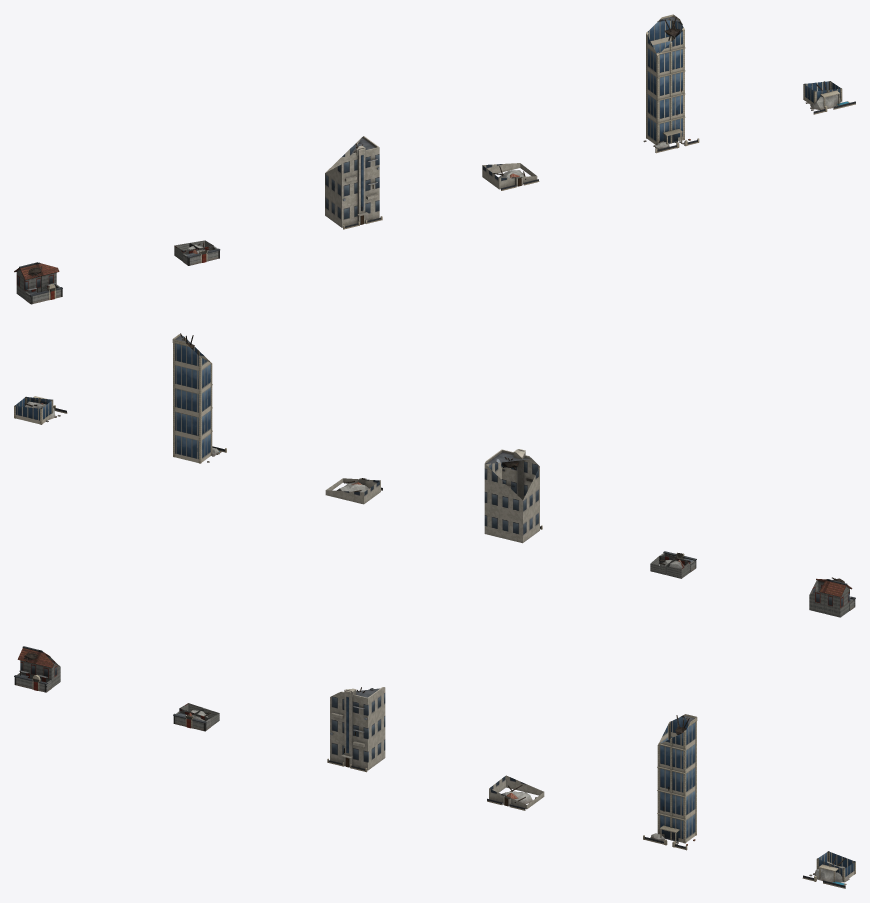
The model's file is modern-sinic-houses-damage.glb.
3 renders of one model, top to bottom at view 1: azimuth 30°, elevation 25°; view 2: azimuth 150°, elevation 25°; view 3: azimuth 330°, elevation 25°, orthographic.
Parts seen in each view (by area): view 1: LOD0.004, LOD0.002, LOD0, LOD0.005, LOD0.003, LOD0.001; view 2: LOD0.002, LOD0.004, LOD0, LOD0.003, LOD0.005, LOD0.001; view 3: LOD0.004, LOD0.002, LOD0, LOD0.003, LOD0.005, LOD0.001.
Boxes of the visible parts, x1=… form: LOD0.004: x1=643, y1=14, x2=699, y2=153; LOD0.002: x1=325, y1=136, x2=382, y2=229; LOD0: x1=14, y1=262, x2=62, y2=304; LOD0.005: x1=803, y1=81, x2=855, y2=114; LOD0.003: x1=482, y1=163, x2=539, y2=190; LOD0.001: x1=174, y1=240, x2=220, y2=265; LOD0.002: x1=484, y1=449, x2=542, y2=543; LOD0.004: x1=172, y1=333, x2=226, y2=463; LOD0: x1=809, y1=577, x2=855, y2=617; LOD0.003: x1=325, y1=478, x2=382, y2=504; LOD0.005: x1=14, y1=396, x2=67, y2=424; LOD0.001: x1=650, y1=551, x2=696, y2=578; LOD0.004: x1=643, y1=714, x2=697, y2=850; LOD0.002: x1=327, y1=687, x2=385, y2=772; LOD0: x1=14, y1=646, x2=60, y2=692; LOD0.003: x1=487, y1=775, x2=544, y2=810; LOD0.005: x1=802, y1=851, x2=855, y2=888; LOD0.001: x1=173, y1=703, x2=219, y2=731.
Size of what is drawn, in the model's own units: 15.73 by 2.19 by 0.66.
Materials: 2 (2 with a texture image).
